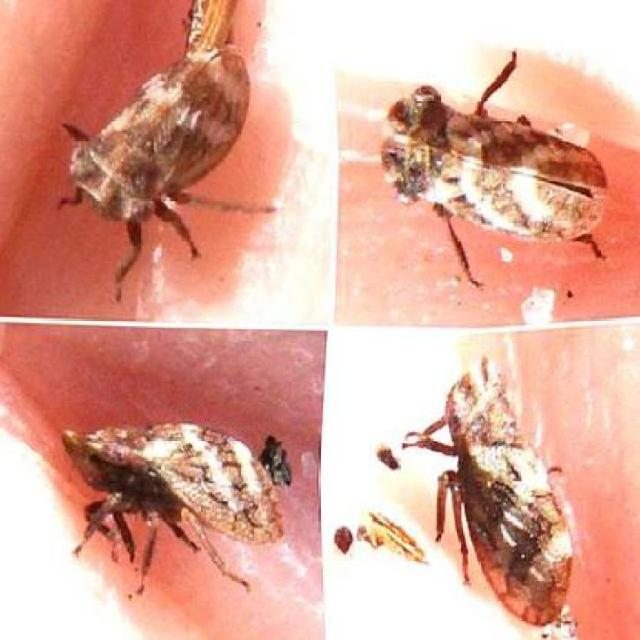brown-planthopper: (55, 412, 282, 592), (376, 86, 607, 259), (432, 348, 573, 629), (63, 50, 255, 233)
